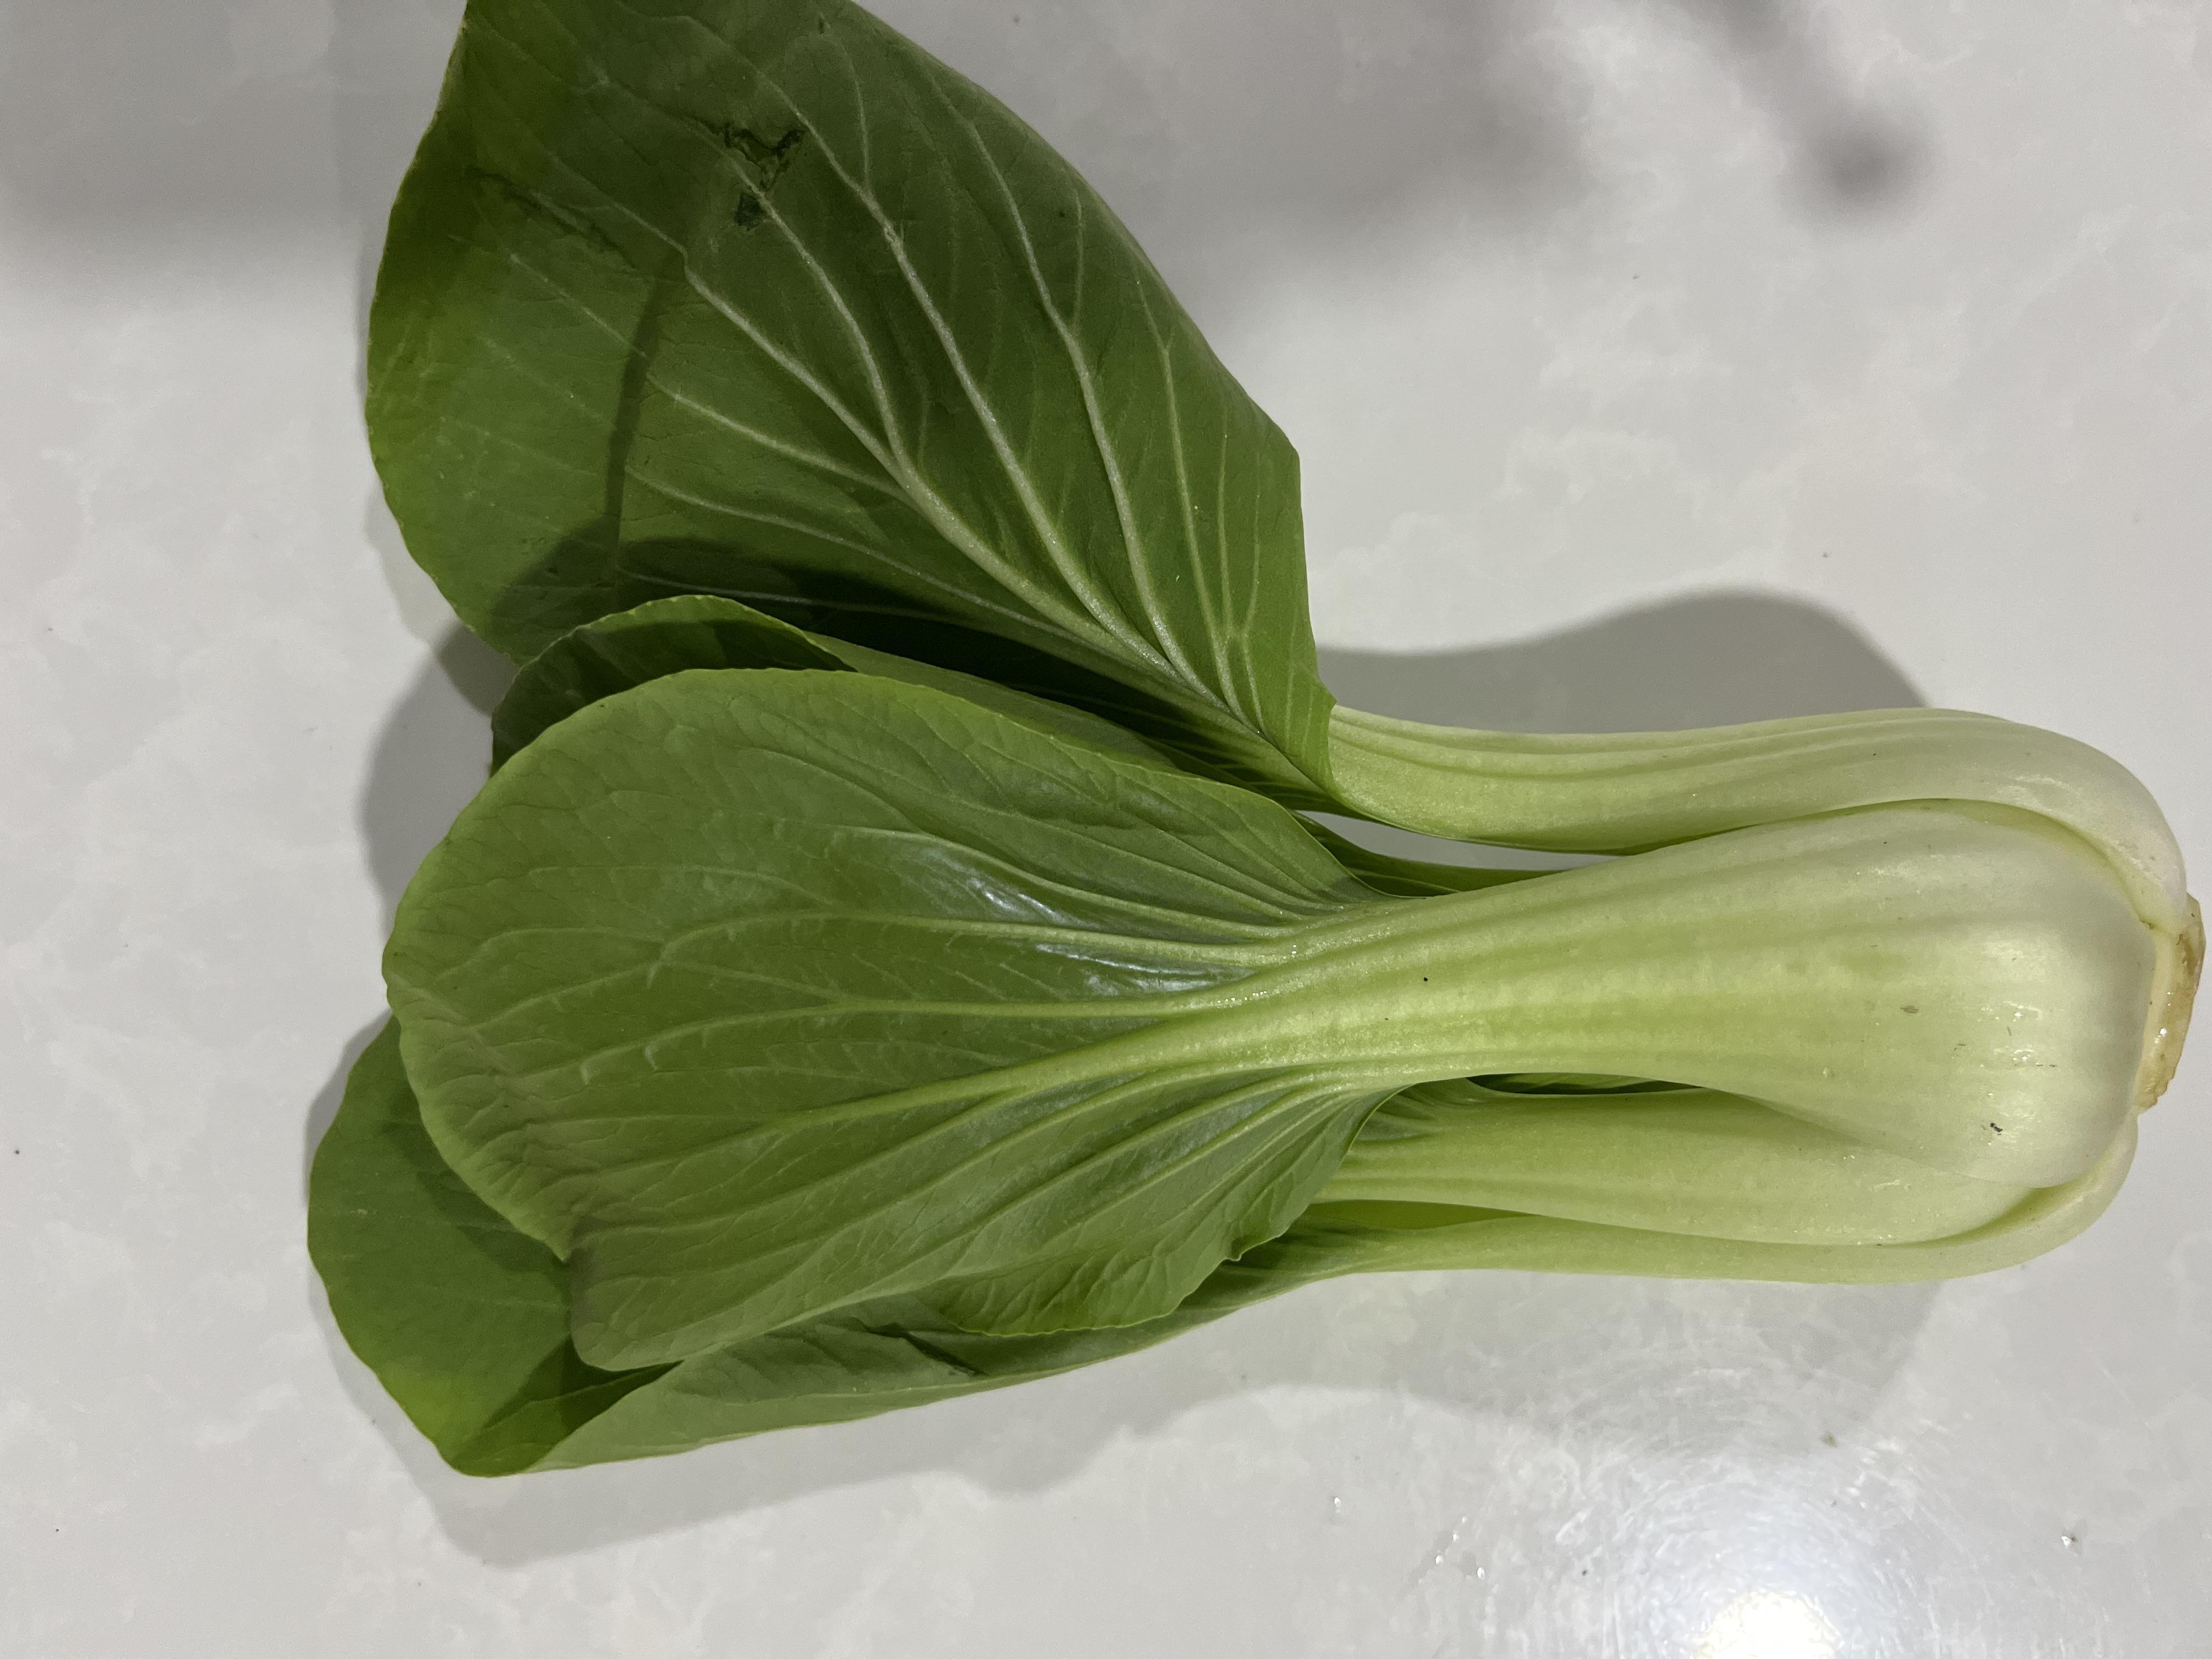Healthy-Pechay: (186, 0, 2151, 1542)
